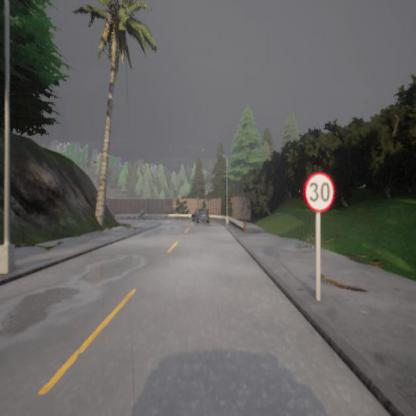traffic_sign_30: (304, 172, 334, 212)
vehicle: (190, 210, 210, 224)
